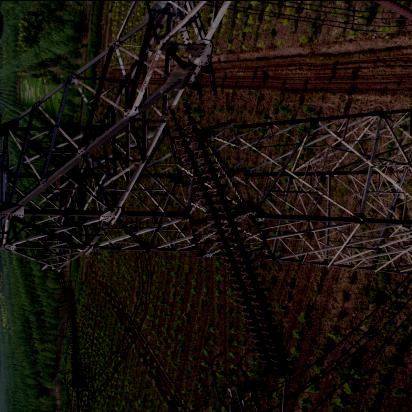insulator: (180, 95, 280, 387), (57, 280, 89, 387)
